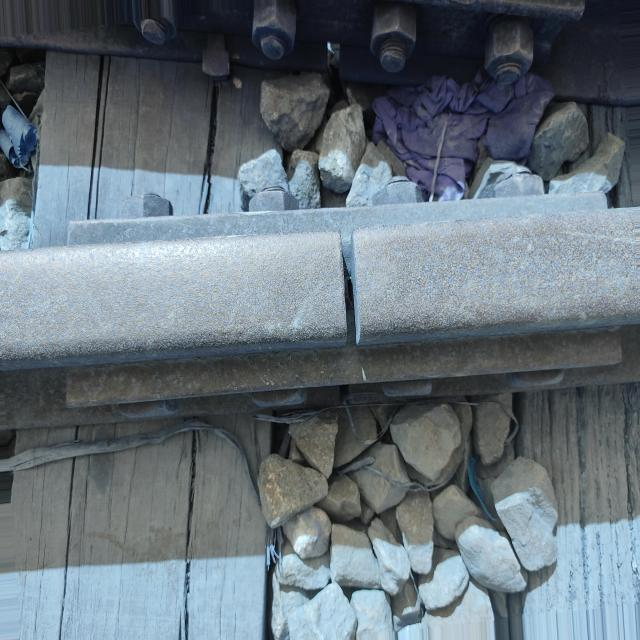crack: (320, 218, 367, 383)
